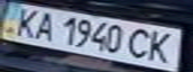0: (106, 22, 127, 55)
1: (54, 15, 78, 46)
4: (90, 20, 109, 53)
9: (72, 16, 93, 50)
A: (30, 10, 60, 43)
C: (124, 25, 157, 61)
K: (142, 28, 184, 64), (6, 6, 42, 38)
